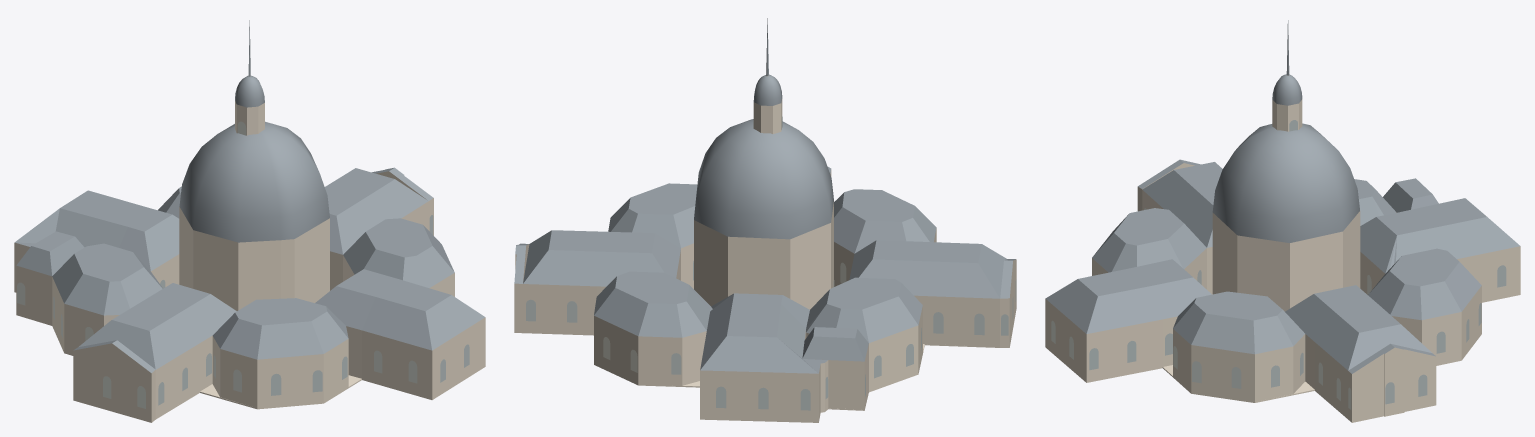
The model's file is detail.glb.
3 views of the same model, side by side, from view 1: azimuth 30°, elevation 25°; view 2: azimuth 150°, elevation 25°; view 3: azimuth 270°, elevation 25° (orthographic).
Parts seen in each view (by area): view 1: roof, stone, window; view 2: roof, stone, window; view 3: roof, stone, window.
Part boxes in pixels (<box>): roof: <box>15,20,484,372</box>; stone: <box>14,76,485,422</box>; window: <box>17,121,469,408</box>; roof: <box>514,18,1015,373</box>; stone: <box>514,75,1016,422</box>; window: <box>526,116,1016,410</box>; roof: <box>1045,20,1520,373</box>; stone: <box>1045,75,1520,422</box>; window: <box>1051,120,1506,409</box>.
Bounding box in the file's own units: 72.01 × 50 × 70.59.
